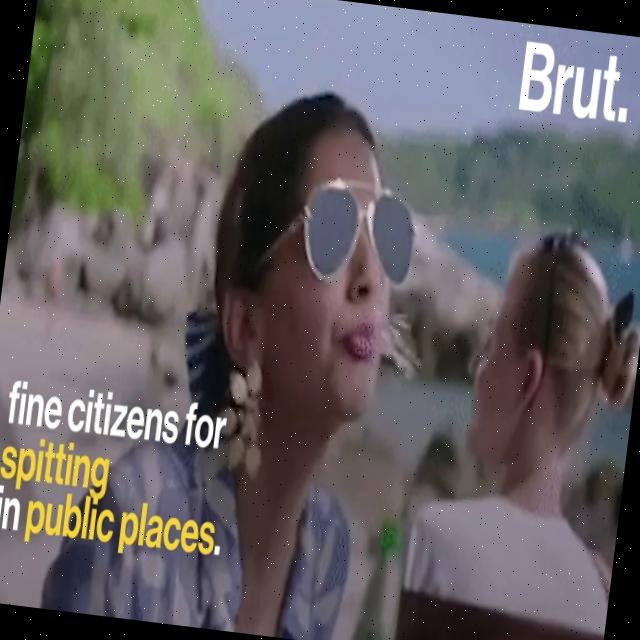spit: (256, 185, 477, 491)
